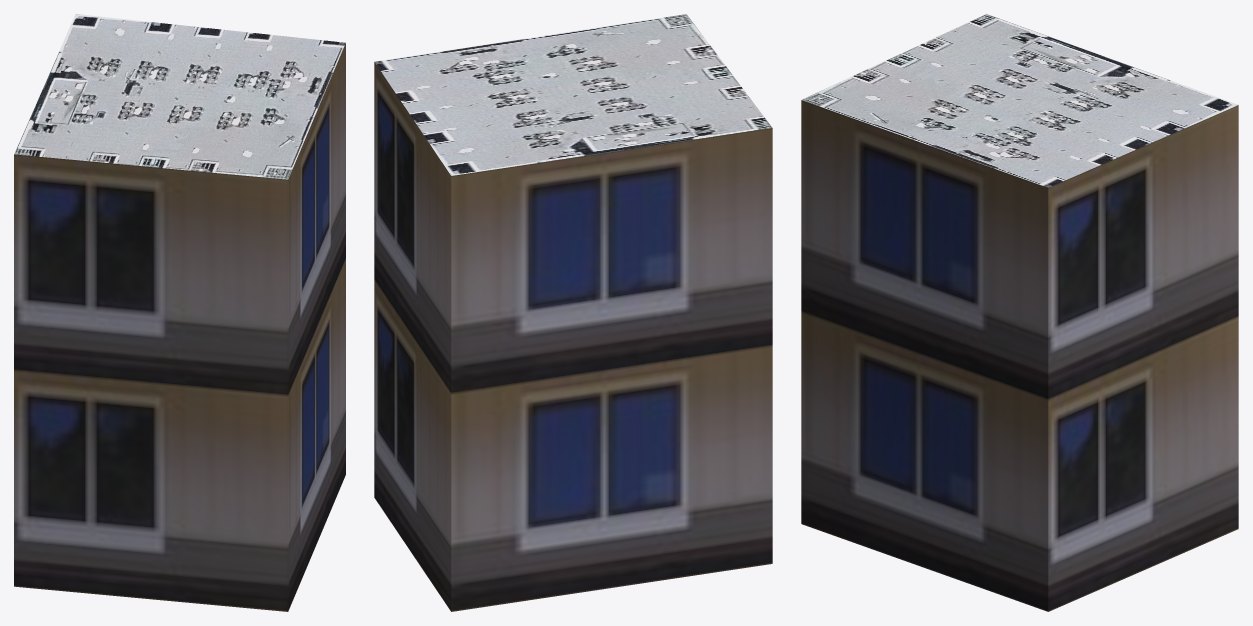
The model's file is ResTex__1733.fbx.
3 views of the same model, side by side, from view 1: azimuth 30°, elevation 25°; view 2: azimuth 150°, elevation 25°; view 3: azimuth 270°, elevation 25° (orthographic). The views are drawn at different scales.
Parts seen in each view (by area): view 1: CityEngineMaterial_5_m, CityEngineMaterial_4_m; view 2: CityEngineMaterial_5_m, CityEngineMaterial_4_m; view 3: CityEngineMaterial_5_m, CityEngineMaterial_4_m.
Part boxes in pixels (box(x1,y1,x2,y2)): CityEngineMaterial_5_m: box(14, 43, 345, 611); CityEngineMaterial_4_m: box(14, 14, 345, 179); CityEngineMaterial_5_m: box(374, 62, 772, 611); CityEngineMaterial_4_m: box(374, 14, 772, 175); CityEngineMaterial_5_m: box(801, 100, 1238, 611); CityEngineMaterial_4_m: box(802, 14, 1237, 187).
Bounding box in the file's own units: 5.28 × 6 × 5.61.
Materials: 2 (2 with a texture image).
